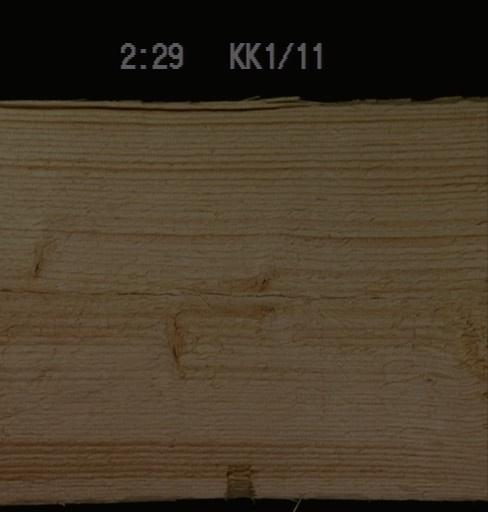split: (0, 276, 479, 304), (0, 99, 319, 114)
